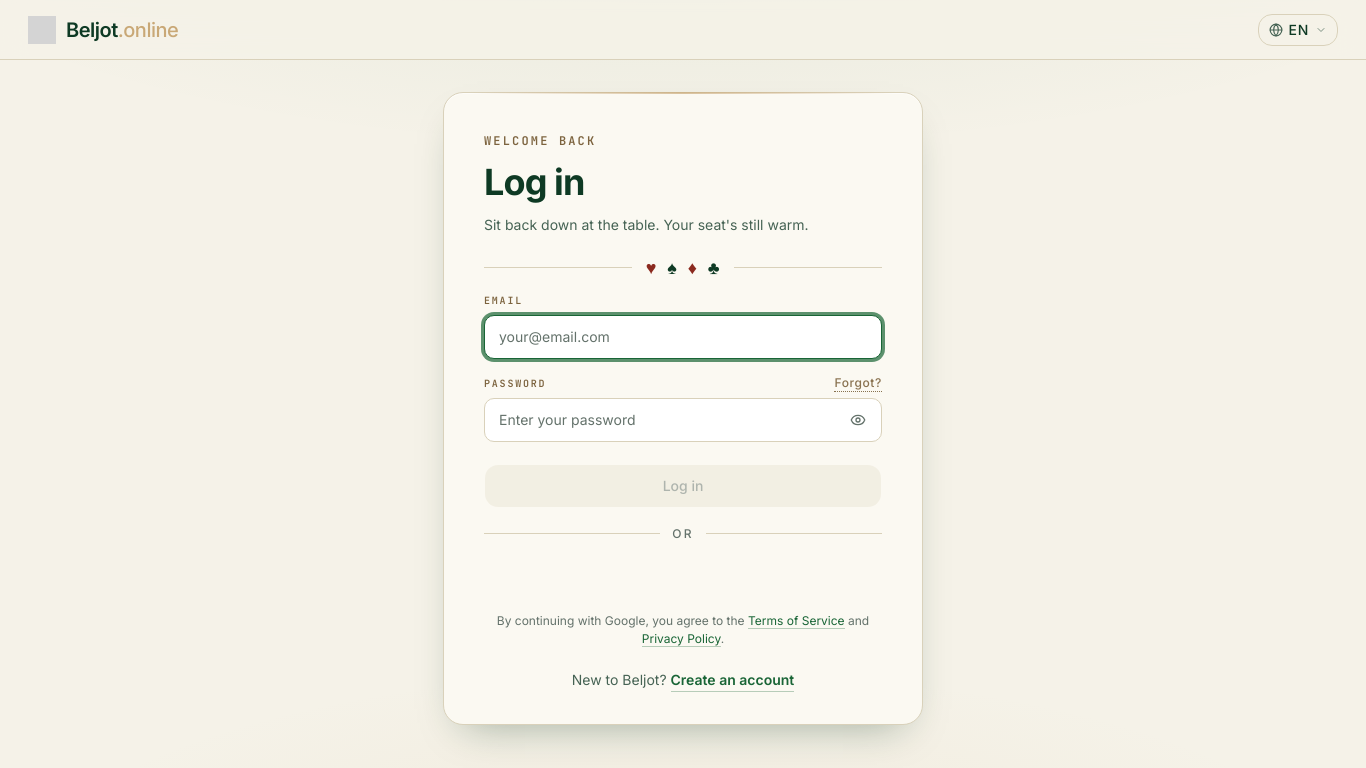
Test case: LoginPage › displays generic error for 401 response
The width and height of the screenshot is (1366, 768).
Type "test@example.com" into the field with test id "email-input" at (683, 337), box 484,315 -> 882,359
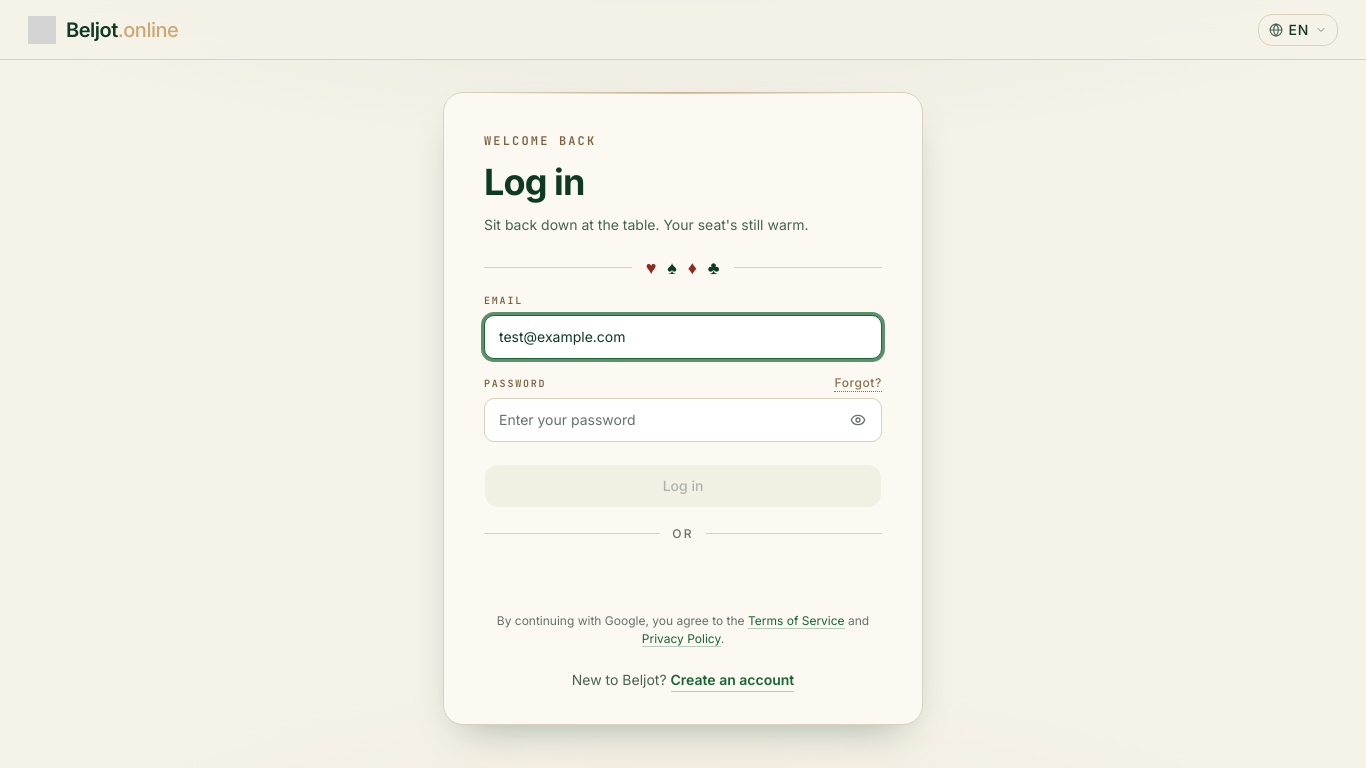
Type "wrongpassword" into the password field with test id "password-input" at (683, 420), box 484,398 -> 882,442
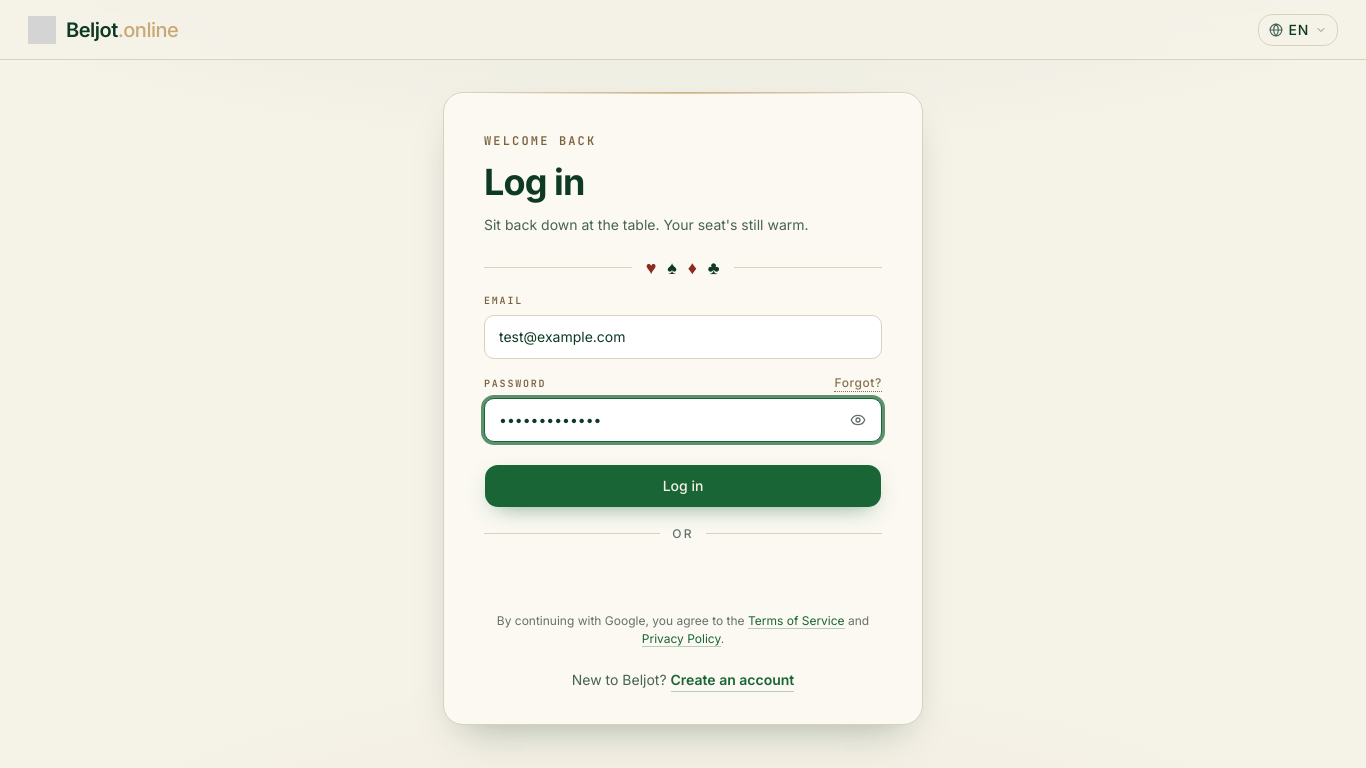
Click the button with test id "submit-button" at (683, 486), box 484,464 -> 882,508
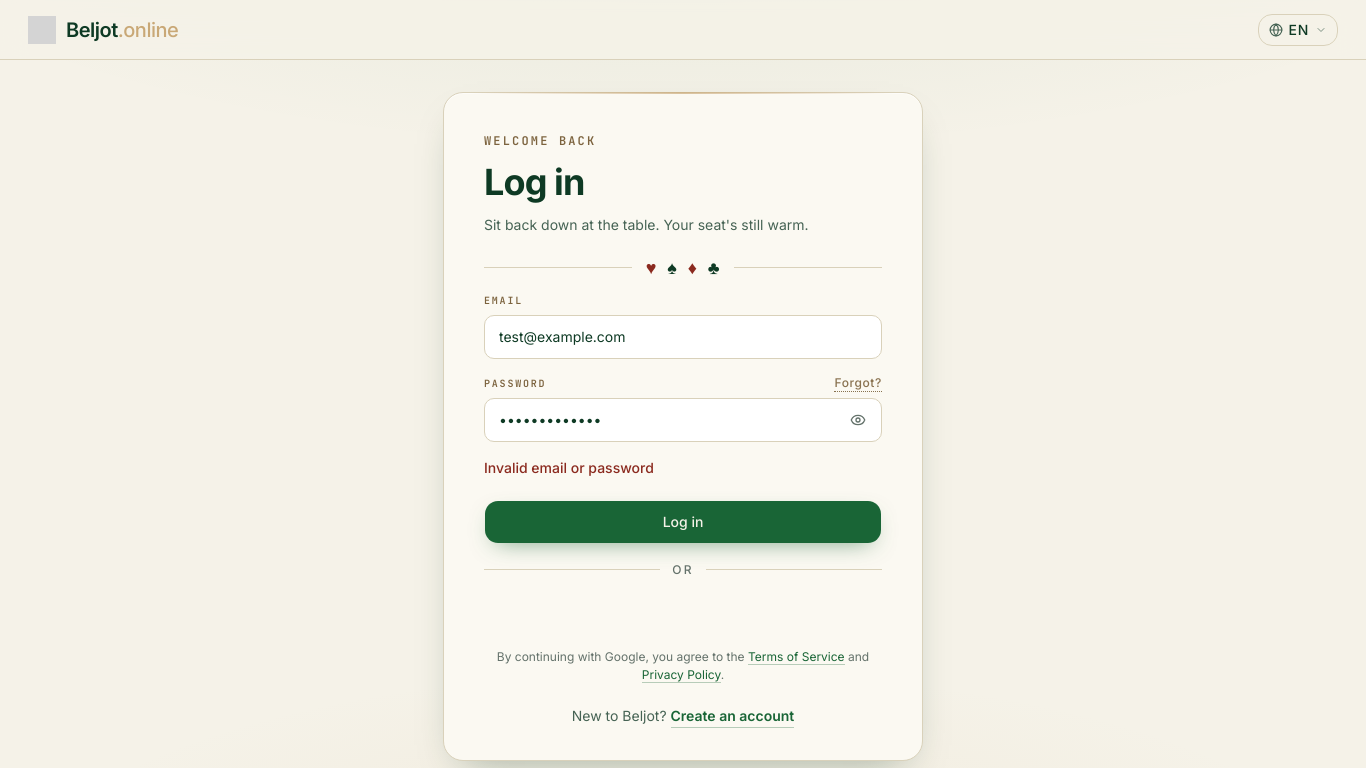
Check: the message with test id "form-error" reads "Invalid email or password", box 484,459 -> 654,476
